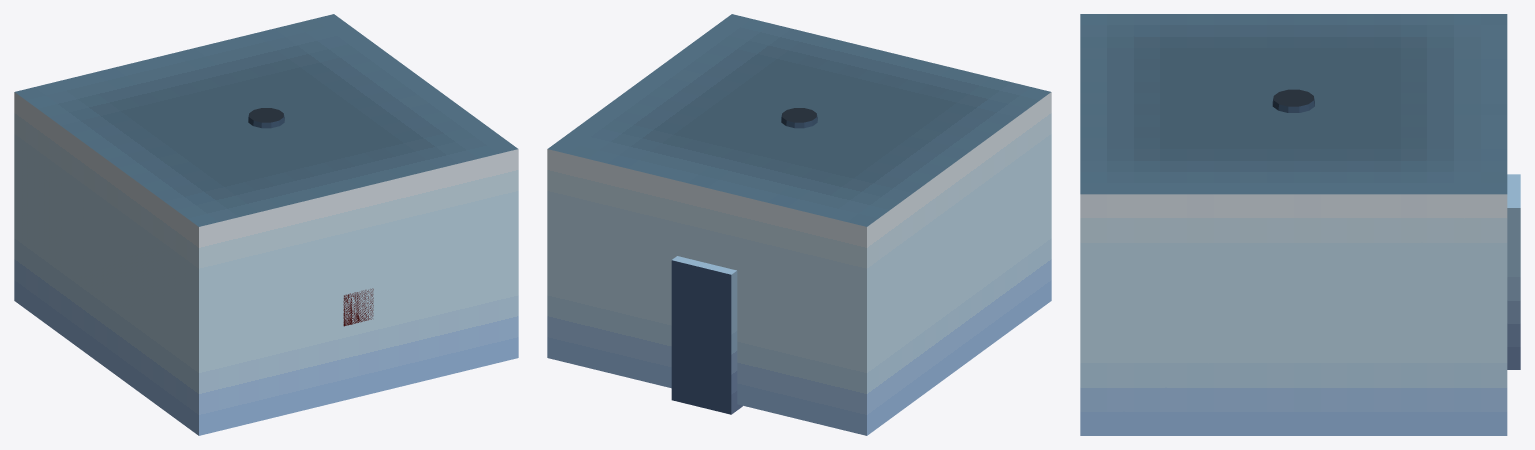
Rendered from roomFINAL.gltf.
3 renders of one model, left to right at view 1: azimuth 30°, elevation 25°; view 2: azimuth 150°, elevation 25°; view 3: azimuth 270°, elevation 25°, orthographic. The views are drawn at different scales.
Parts seen in each view (by area): view 1: the room, THE CASE AAAAAAAAAAAAAAAH, lamp; view 2: the room, DOOR, lamp; view 3: the room, DOOR, lamp.
Boxes of the visible parts, bbox=[...] form: the room: bbox=[14, 14, 518, 435]; THE CASE AAAAAAAAAAAAAAAH: bbox=[343, 288, 373, 326]; lamp: bbox=[248, 108, 284, 128]; the room: bbox=[547, 14, 1051, 435]; DOOR: bbox=[671, 256, 742, 414]; lamp: bbox=[781, 108, 817, 128]; the room: bbox=[1080, 14, 1507, 435]; DOOR: bbox=[1507, 174, 1520, 369]; lamp: bbox=[1272, 89, 1314, 112].
Size of the model in its own units: 1 by 0.6594 by 1.03.
7 materials, 7 textured.
